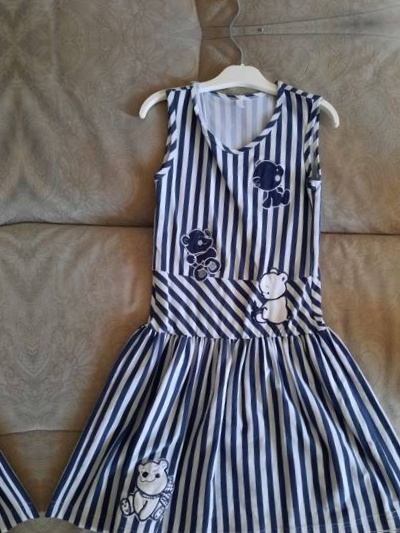Dress: (25, 67, 400, 533), (0, 90, 35, 533), (0, 0, 3, 21)
